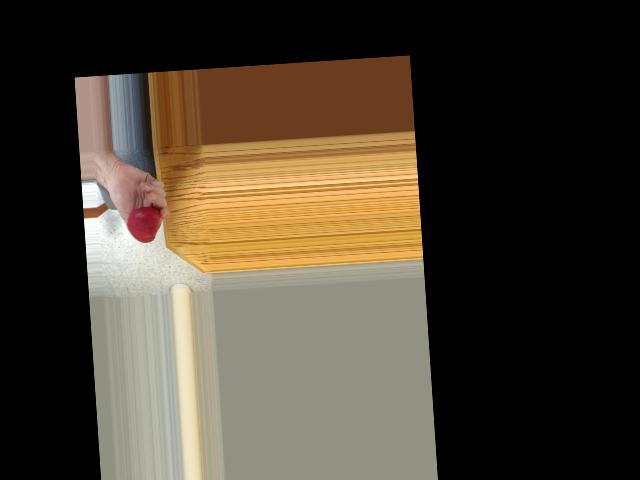apple: (124, 203, 164, 245)
